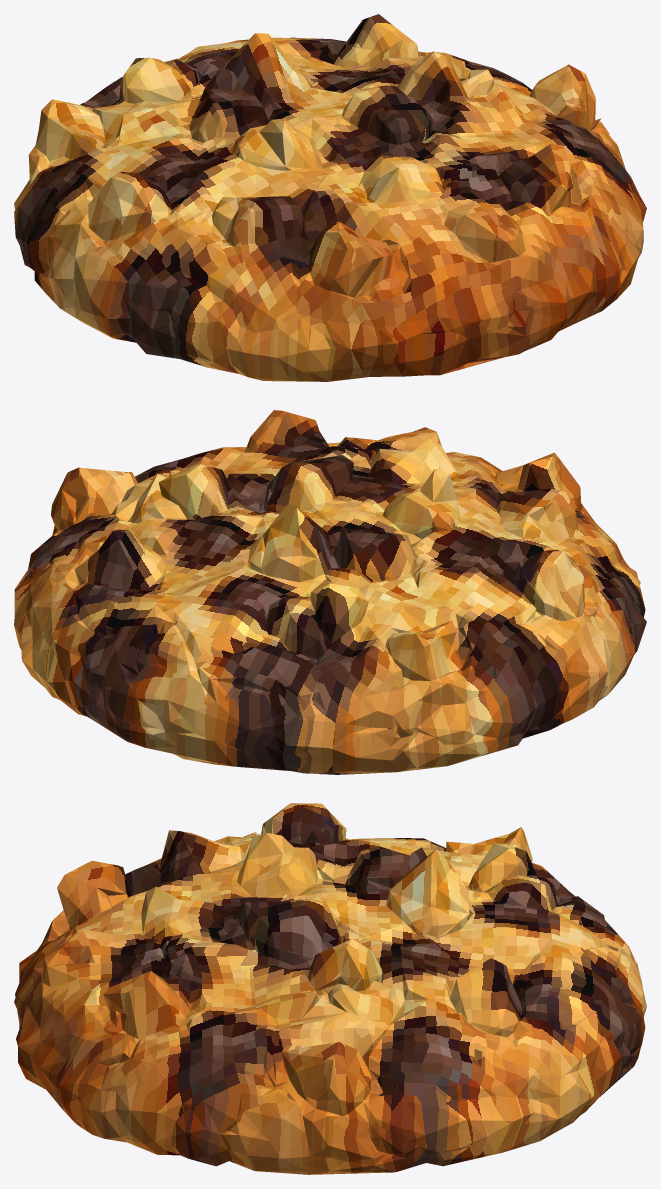
File: ChipsahoyOriginal.fbx
3 renders of one model, top to bottom at view 1: azimuth 30°, elevation 25°; view 2: azimuth 150°, elevation 25°; view 3: azimuth 270°, elevation 25°, orthographic.
Parts seen in each view (by area): view 1: Mesh1.0; view 2: Mesh1.0; view 3: Mesh1.0.
Part boxes in pixels (<box>): Mesh1.0: <box>14,14,646,381</box>; Mesh1.0: <box>14,410,646,774</box>; Mesh1.0: <box>14,803,646,1174</box>.
Size of the model in its own units: 190 by 63.12 by 186.
